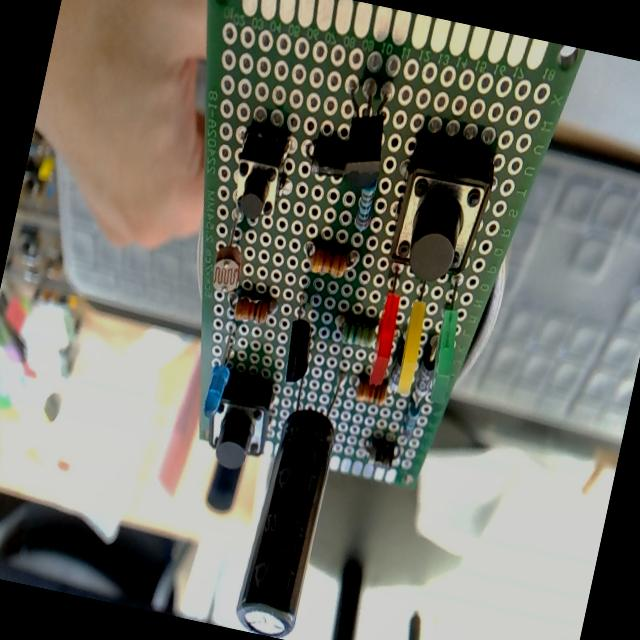Electrolytic capacitor: (234, 361, 350, 635)
cds: (208, 207, 254, 295)
diode: (387, 328, 414, 402), (308, 134, 350, 180), (363, 436, 398, 469)
led: (422, 269, 473, 406), (365, 262, 409, 388), (392, 276, 433, 396), (201, 322, 240, 418)
resistor: (302, 238, 362, 280), (408, 338, 441, 411), (232, 291, 276, 328), (331, 314, 377, 348), (352, 178, 378, 233), (354, 374, 388, 406), (398, 400, 422, 443)
switch: (386, 132, 499, 284), (204, 368, 280, 469), (226, 126, 292, 228)
transistor: (338, 76, 399, 200), (279, 292, 323, 384)
